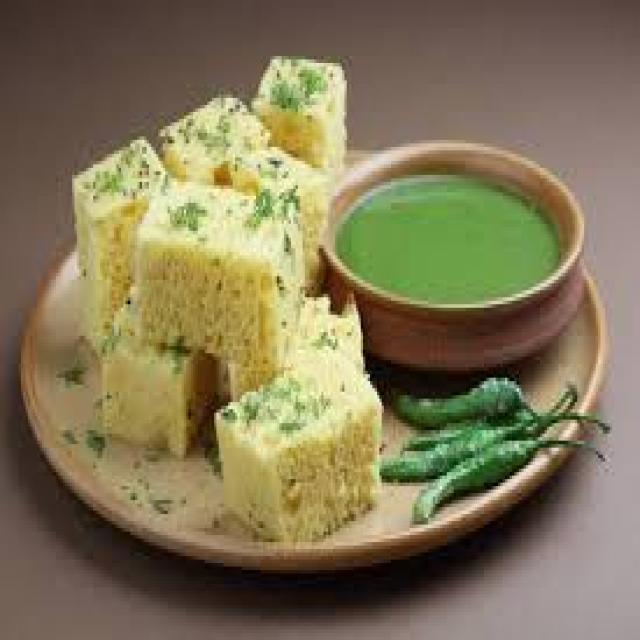DHOKLA: (164, 82, 329, 296), (214, 355, 385, 547), (133, 183, 309, 355), (76, 129, 167, 357), (104, 289, 221, 460), (221, 295, 363, 393), (253, 52, 350, 174)
